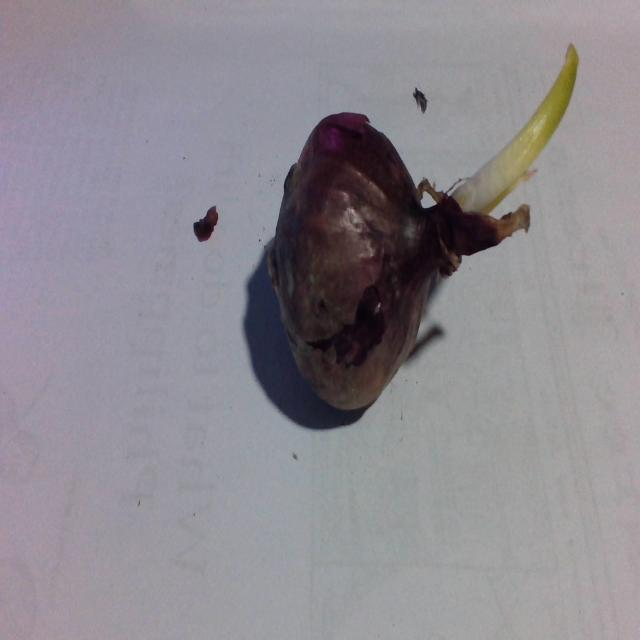onion: (240, 38, 583, 434)
